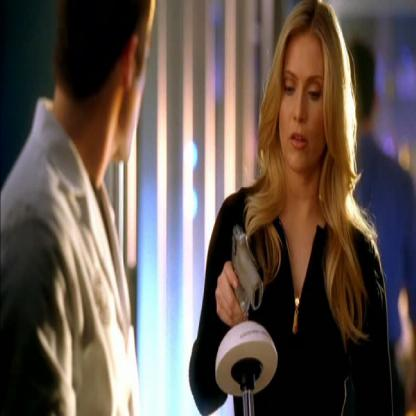Gun: (225, 220, 268, 334)
